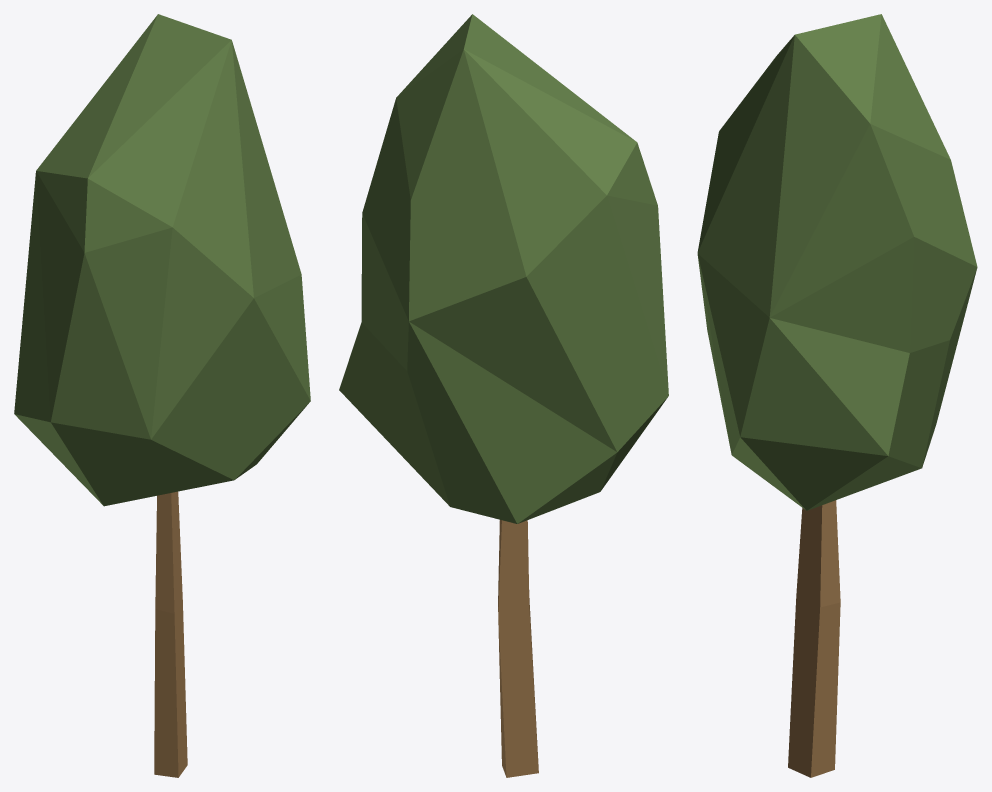
File: PCTree.fbx
The picture shows the model from 3 angles, left to right: view 1: azimuth 30°, elevation 25°; view 2: azimuth 150°, elevation 25°; view 3: azimuth 270°, elevation 25°; orthographic projection. The views are drawn at different scales.
Parts seen in each view (by area): view 1: tree_01; view 2: tree_01; view 3: tree_01.
Part boxes in pixels (x1,y1,x2,y2): tree_01: (14,14,310,777); tree_01: (339,14,668,777); tree_01: (697,14,977,777).
Size of the model in its own units: 198 by 502 by 166.
